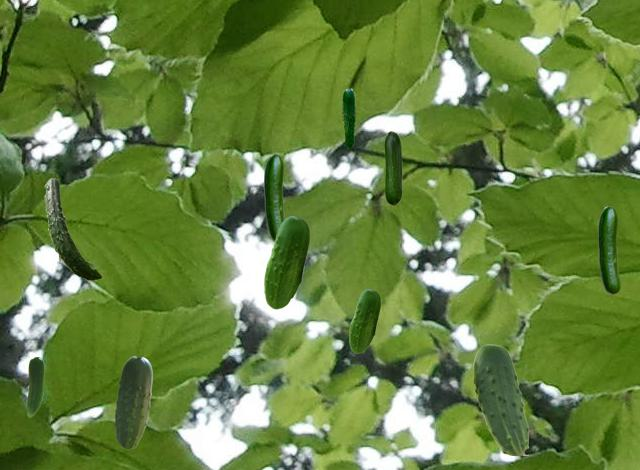cucumber: (473, 344, 527, 454), (44, 178, 101, 279), (264, 216, 308, 308), (114, 356, 151, 448), (349, 289, 379, 352), (598, 206, 619, 293), (264, 154, 284, 241), (384, 131, 401, 204), (27, 357, 43, 416), (342, 88, 355, 147)
